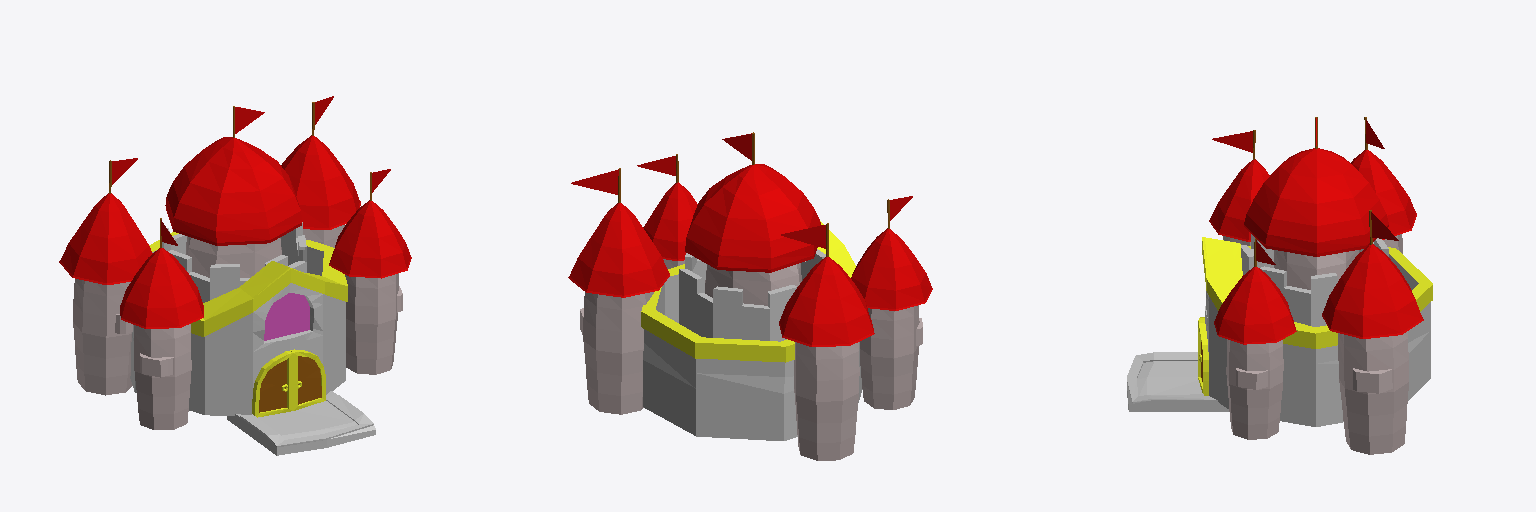
File: castle.obj
The picture shows the model from 3 angles: view 1: azimuth 30°, elevation 25°; view 2: azimuth 150°, elevation 25°; view 3: azimuth 270°, elevation 25°; orthographic projection.
Visible parts, largest first — view 1: Fachada, Tapa, Torre3, Tapa_3, piso, Torre1, Torre2, Tapa_1, Tapa_4, Tapa_2, Torre.2, Torre (+4 smaller); view 2: Fachada, Tapa, Torre3, Torre4, Tapa_4, Torre.2, Tapa_3, Torre1, Tapa_1, Tapa_2, Torre, Banderin_4 (+1 smaller); view 3: Fachada, Tapa, Torre4, Tapa_4, piso, Torre2, Tapa_2, Torre.2, Tapa_1, Tapa_3, Torre, ladrillo_0.1_3 (+2 smaller).
Boxes of the visible parts, x1,y1,x2,y2 form: Fachada: [130, 232, 347, 415]; Tapa: [165, 137, 301, 245]; Torre3: [73, 279, 132, 395]; Tapa_3: [59, 193, 152, 284]; piso: [227, 391, 375, 455]; Torre1: [134, 324, 191, 429]; Torre2: [345, 273, 398, 374]; Tapa_1: [120, 248, 203, 328]; Tapa_4: [281, 135, 360, 229]; Tapa_2: [329, 200, 411, 278]; Torre.2: [162, 222, 306, 302]; Torre: [186, 236, 281, 277]; Fachada: [641, 221, 862, 440]; Tapa: [685, 164, 820, 272]; Torre3: [794, 342, 859, 460]; Torre4: [583, 292, 653, 414]; Tapa_4: [568, 203, 669, 297]; Torre.2: [679, 249, 825, 341]; Tapa_3: [779, 257, 874, 346]; Torre1: [860, 305, 919, 409]; Tapa_1: [851, 228, 932, 310]; Tapa_2: [643, 182, 697, 260]; Torre: [705, 263, 801, 305]; Banderin_4: [571, 169, 618, 194]; Fachada: [1202, 237, 1432, 426]; Tapa: [1244, 148, 1388, 256]; Torre4: [1338, 331, 1408, 454]; Tapa_4: [1322, 244, 1423, 338]; piso: [1127, 352, 1228, 411]; Torre2: [1226, 339, 1283, 439]; Tapa_2: [1214, 267, 1296, 344]; Torre.2: [1241, 234, 1388, 326]; Tapa_1: [1209, 159, 1269, 241]; Tapa_3: [1351, 150, 1416, 239]; Torre: [1274, 250, 1358, 289]; ladrillo_0.1_3: [1353, 368, 1392, 393].
Bounding box in the file's own units: 97.79 × 87.54 × 88.76.